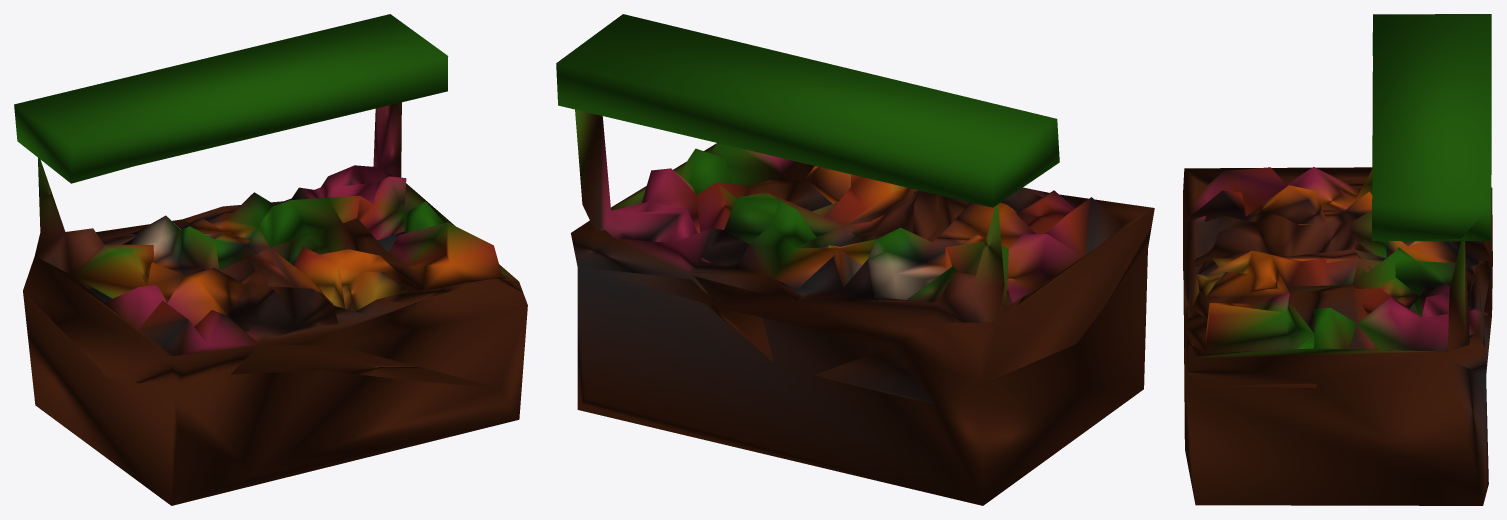
The model's file is gen3d-fruit-stand-lod1.glb.
3 views of the same model, side by side, from view 1: azimuth 30°, elevation 25°; view 2: azimuth 150°, elevation 25°; view 3: azimuth 270°, elevation 25° (orthographic). The views are drawn at different scales.
Visible parts, largest first — view 1: part_0; view 2: part_0; view 3: part_0.
Boxes of the visible parts, bbox=[...] form: part_0: bbox=[14, 14, 527, 505]; part_0: bbox=[556, 14, 1154, 505]; part_0: bbox=[1183, 14, 1492, 505].
Bounding box in the file's own units: 1.3 × 0.9869 × 0.8942.
